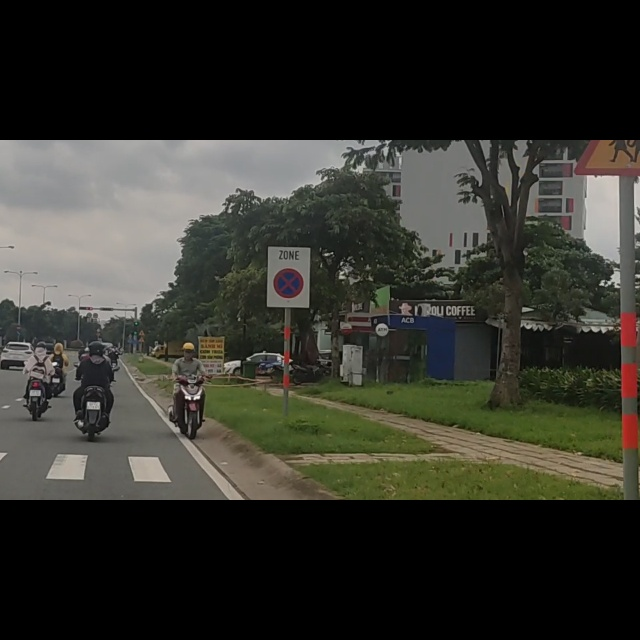bien_nguy_hiem: (575, 1, 640, 64), (273, 228, 304, 280), (16, 328, 22, 338), (16, 339, 22, 348)
